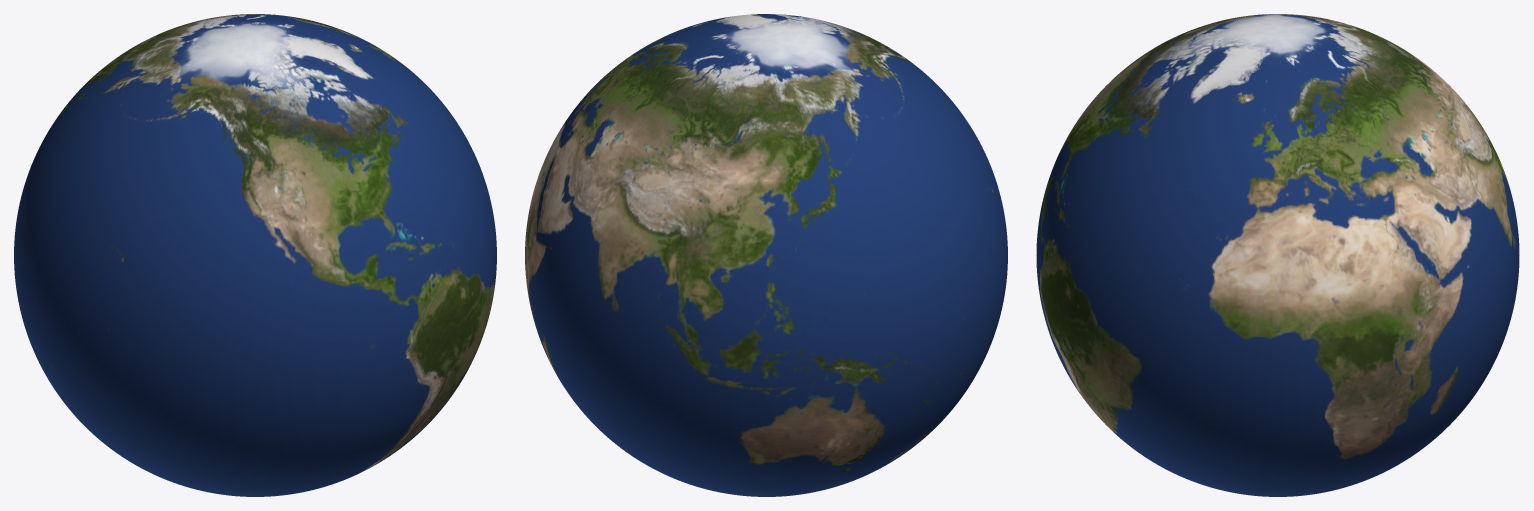
Rendered from tierra.glb.
3 renders of one model, left to right at view 1: azimuth 30°, elevation 25°; view 2: azimuth 150°, elevation 25°; view 3: azimuth 270°, elevation 25°, orthographic.
Parts seen in each view (by area): view 1: Sphere; view 2: Sphere; view 3: Sphere.
Part boxes in pixels (box(x1,y1,x2,y2)): Sphere: box(14, 14, 496, 496); Sphere: box(525, 14, 1007, 496); Sphere: box(1036, 14, 1519, 496).
Size of the model in its own units: 2 by 2 by 2.
Materials: 1 (1 with a texture image).
